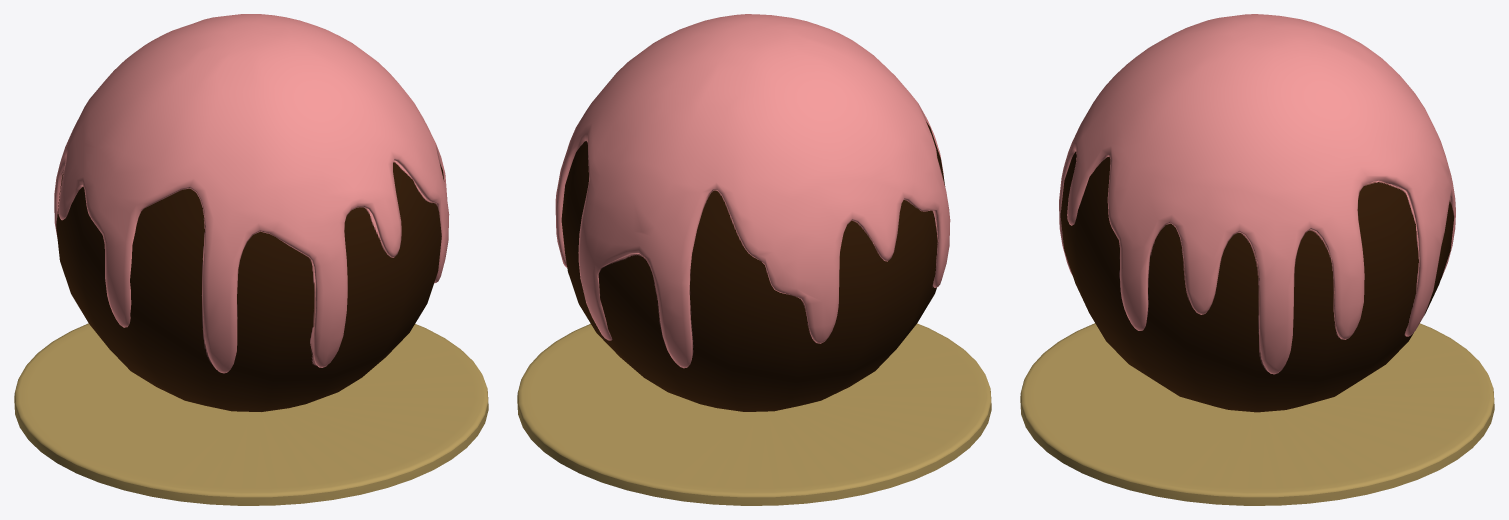
The model's file is chocolate_truffle.glb.
The picture shows the model from 3 angles, left to right: view 1: azimuth 30°, elevation 25°; view 2: azimuth 150°, elevation 25°; view 3: azimuth 270°, elevation 25°; orthographic projection.
Visible parts, largest first — view 1: Object_3, Object_2; view 2: Object_3, Object_2; view 3: Object_3, Object_2.
Part boxes in pixels (x1=…): Object_3: x1=54, y1=14, x2=449, y2=411; Object_2: x1=14, y1=323, x2=488, y2=505; Object_3: x1=555, y1=14, x2=950, y2=411; Object_2: x1=517, y1=323, x2=991, y2=505; Object_3: x1=1059, y1=14, x2=1455, y2=412; Object_2: x1=1020, y1=323, x2=1494, y2=505.
Size of the model in its own units: 2.4 by 2.08 by 2.4.
2 materials, 1 textured.
